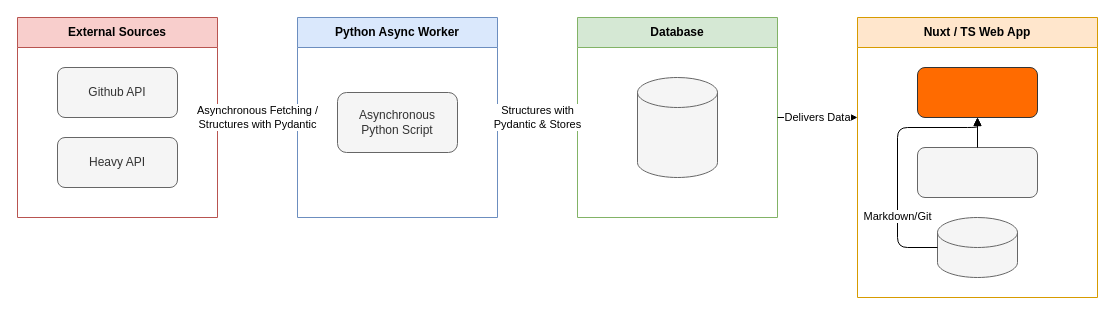
Image size: 1115x315. Some labels were removed from this diagram. Here are the shapes that lost their labels. From the top down, the centre of each, then its label:
(977,92): Client (Nuxt)
(677,127): PostgreSQL
(977,172): Dynamic Content
(977,247): TinaCMS / Blogg
